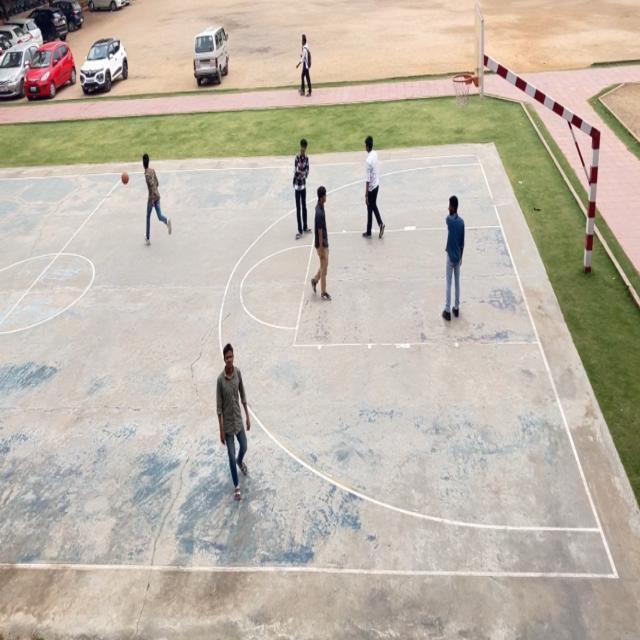basketball: (120, 169, 130, 189)
hoop: (451, 69, 473, 115)
